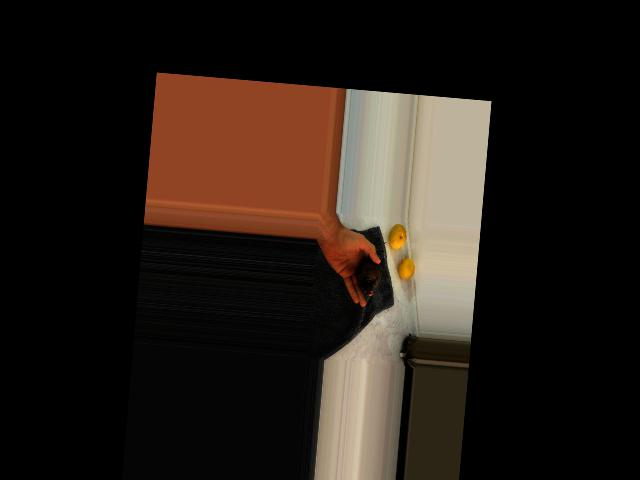beet: (354, 239, 386, 295)
